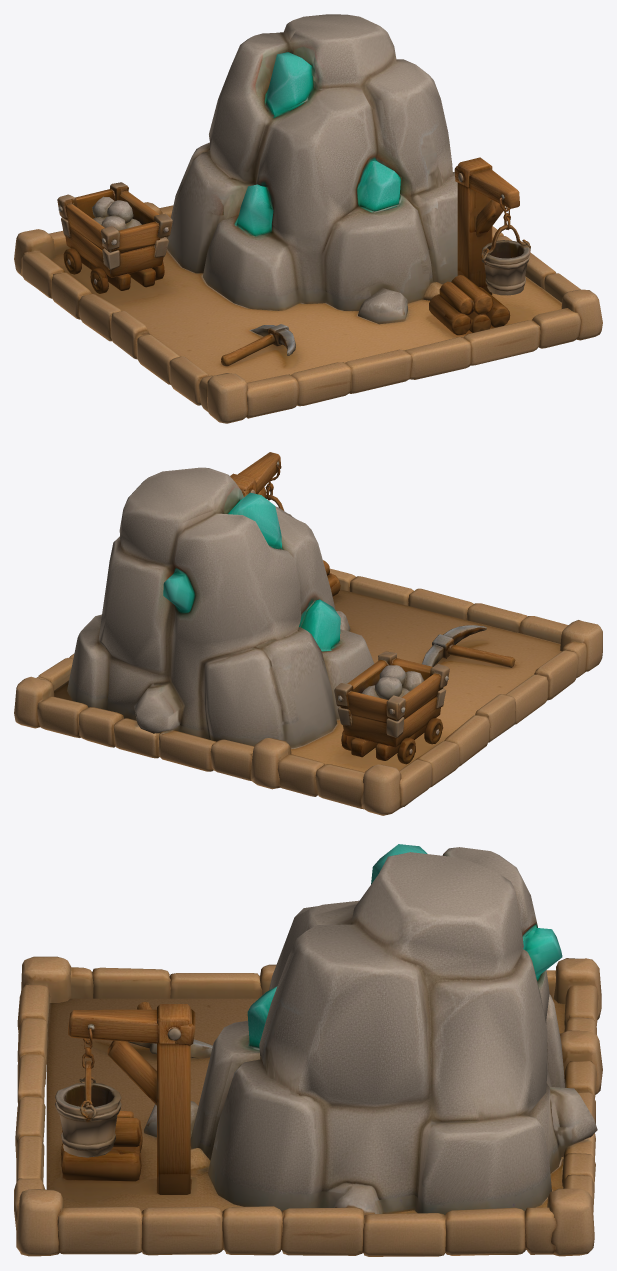
Rendered from rock_emerald.fbx.
The picture shows the model from 3 angles, top to bottom: view 1: azimuth 30°, elevation 25°; view 2: azimuth 150°, elevation 25°; view 3: azimuth 270°, elevation 25°; orthographic projection. The views are drawn at different scales.
Visible parts, largest first — view 1: tripo_part_4, tripo_part_45, tripo_part_112, tripo_part_9, tripo_part_99, tripo_part_14, tripo_part_98, tripo_part_11; view 2: tripo_part_4, tripo_part_45, tripo_part_112, tripo_part_9, tripo_part_11, tripo_part_99; view 3: tripo_part_4, tripo_part_45, tripo_part_112, tripo_part_99, tripo_part_14, tripo_part_11.
Boxes of the visible parts, left/top/right/bottom form: tripo_part_4: left=166, top=14, right=457, bottom=310; tripo_part_45: left=14, top=202, right=602, bottom=423; tripo_part_112: left=51, top=236, right=561, bottom=382; tripo_part_9: left=57, top=182, right=172, bottom=293; tripo_part_99: left=454, top=157, right=530, bottom=295; tripo_part_14: left=429, top=275, right=510, bottom=335; tripo_part_98: left=358, top=288, right=407, bottom=324; tripo_part_11: left=221, top=324, right=295, bottom=366; tripo_part_4: left=67, top=467, right=374, bottom=748; tripo_part_45: left=14, top=568, right=602, bottom=815; tripo_part_112: left=54, top=589, right=561, bottom=772; tripo_part_9: left=334, top=651, right=449, bottom=764; tripo_part_11: left=422, top=625, right=515, bottom=667; tripo_part_99: left=230, top=452, right=291, bottom=515; tripo_part_4: left=190, top=844, right=597, bottom=1215; tripo_part_45: left=14, top=956, right=602, bottom=1256; tripo_part_112: left=46, top=998, right=565, bottom=1249; tripo_part_99: left=55, top=1004, right=195, bottom=1194; tripo_part_14: left=61, top=1111, right=142, bottom=1181; tripo_part_11: left=128, top=1001, right=212, bottom=1058.
Bounding box in the file's own units: 1 × 0.5773 × 0.9843.
12 materials, 12 textured.
